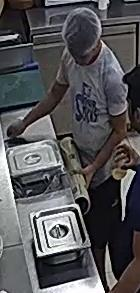no_apron: (63, 25, 114, 189)
